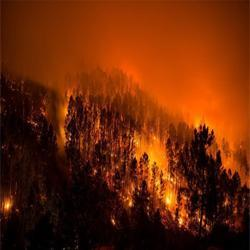fire: (160, 188, 180, 209), (3, 197, 11, 212)
